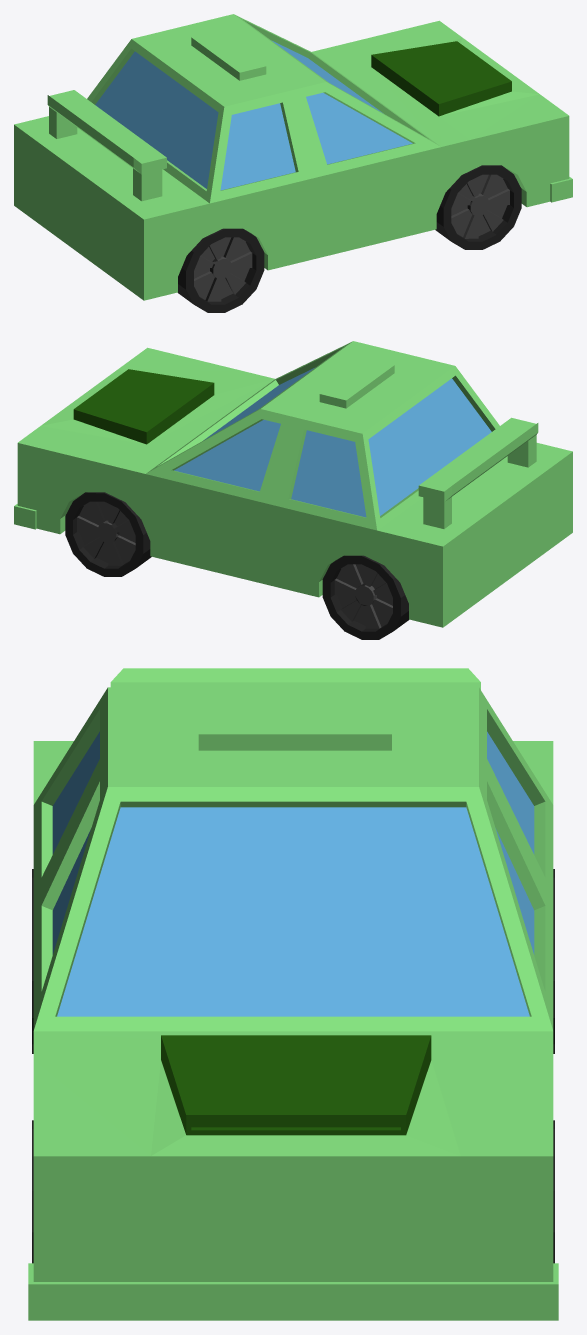
The model's file is Carro.fbx.
3 views of the same model, one above another, from view 1: azimuth 30°, elevation 25°; view 2: azimuth 150°, elevation 25°; view 3: azimuth 270°, elevation 25° (orthographic). The views are drawn at different scales.
Parts seen in each view (by area): view 1: wheellowpolycar; view 2: wheellowpolycar; view 3: wheellowpolycar.
Boxes of the visible parts, x1,y1,x2,y2 form: wheellowpolycar: (14,14,572,312); wheellowpolycar: (14,341,572,639); wheellowpolycar: (28,668,558,1320).
Size of the model in its own units: 1063 by 465 by 571.
